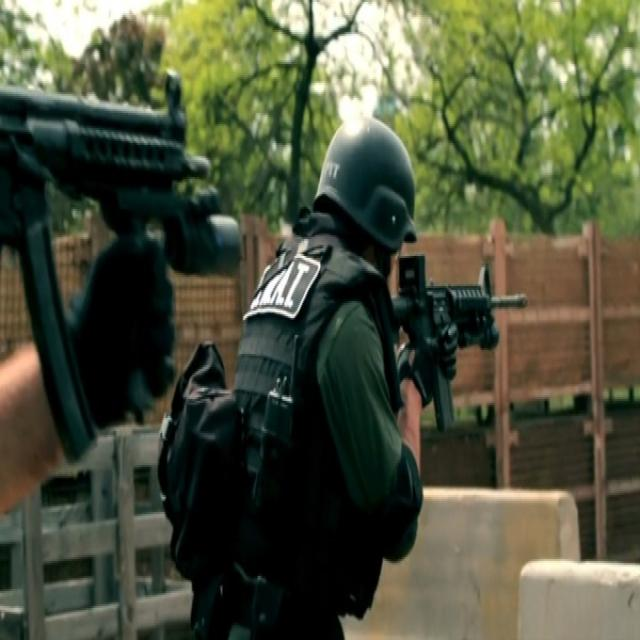rifle: (1, 63, 248, 475), (390, 252, 534, 430)
